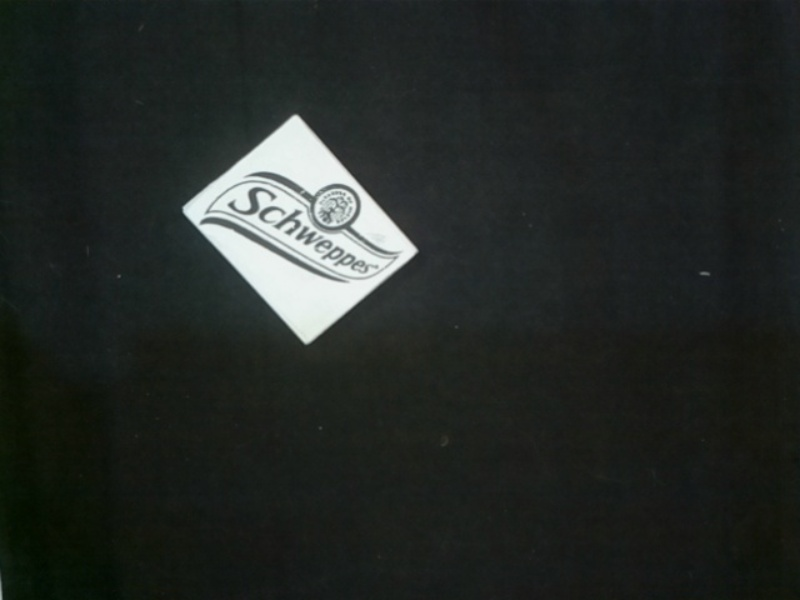schweppes: (177, 109, 425, 353)
